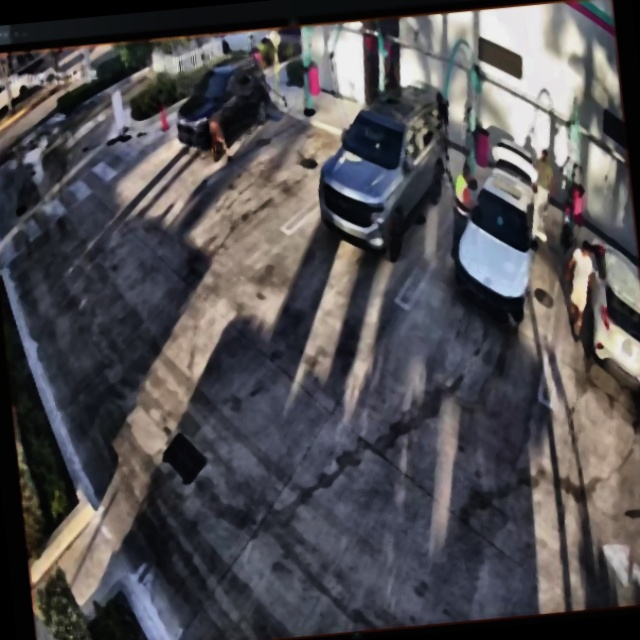Car: (308, 81, 459, 264), (445, 147, 551, 333), (171, 62, 273, 150)
